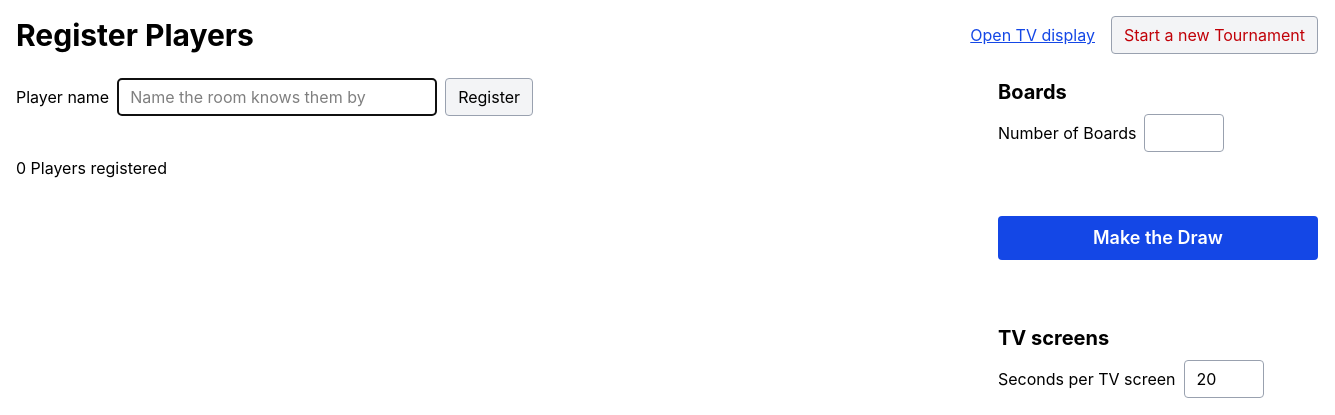
Scenario: the organizer route › registers a Player, lists them with the running count, and clears the name box
The image size is (1335, 415).
Type "Dave K." into the field labelled "Player name" at [277, 97], box [117,78,437,116]
Then press Enter
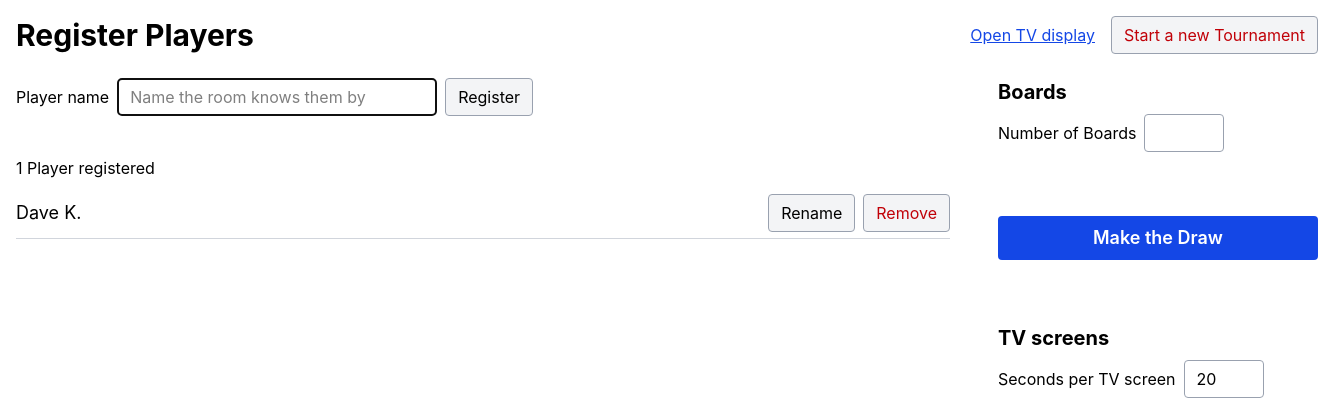
Type "Big Dave" into the field labelled "Player name" at [277, 97], box [117,78,437,116]
Then press Enter
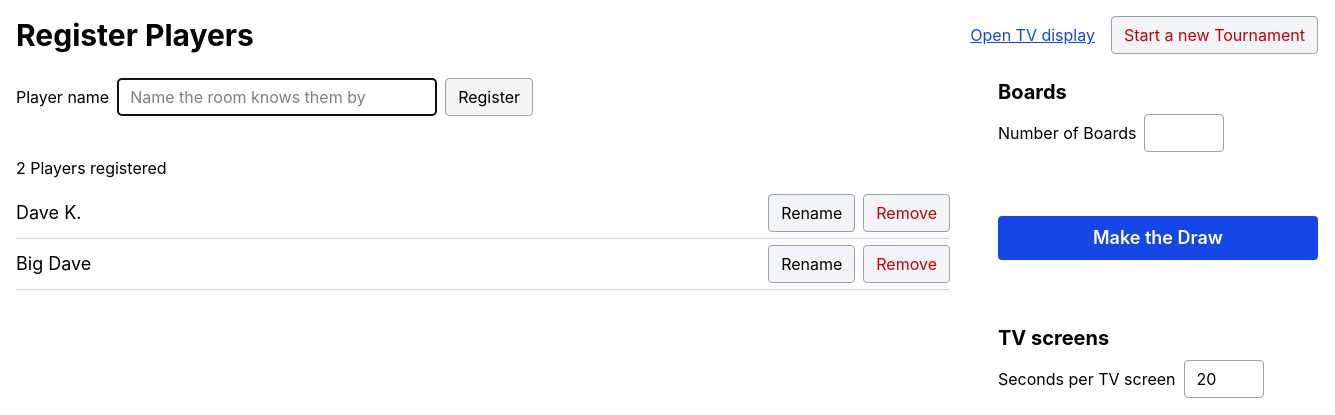
Result: the text "2 Players registered" is shown at [16,158,167,178]
